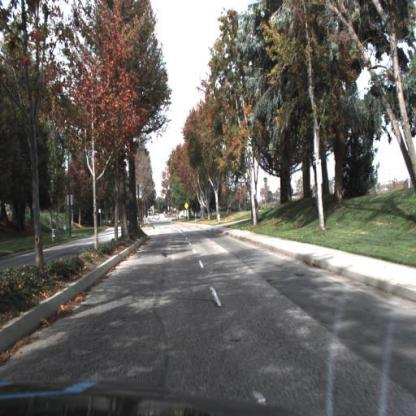car: (156, 214, 160, 221)
